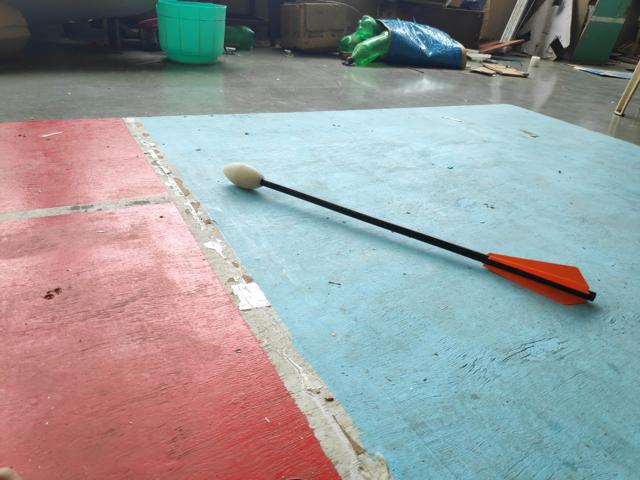Head: (220, 161, 268, 193)
Tail: (483, 249, 600, 309)
